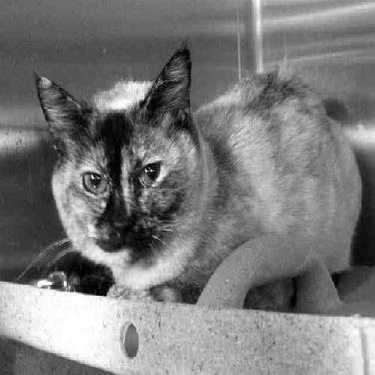cat: (4, 33, 364, 311)
